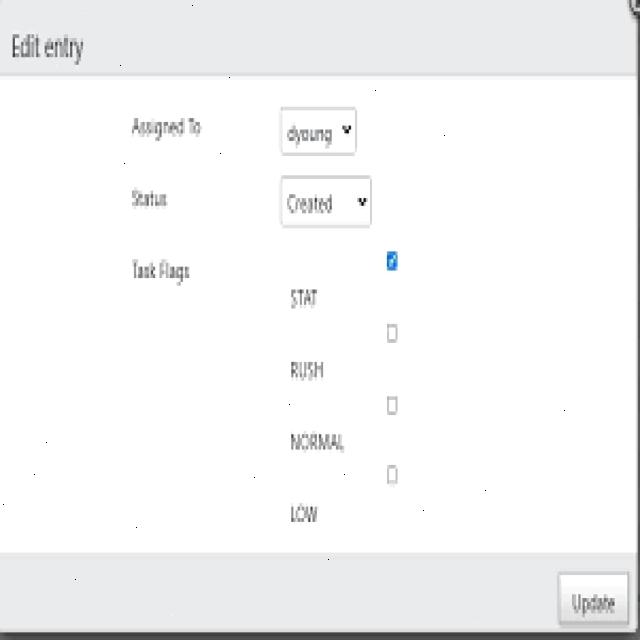button: (558, 574, 629, 624)
checkbox: (386, 249, 399, 270), (388, 394, 398, 417), (388, 464, 398, 485), (387, 322, 397, 342)
dropdownMenu: (281, 176, 370, 226), (280, 108, 359, 156)
label: (119, 108, 214, 151), (123, 249, 204, 289), (281, 423, 353, 462), (122, 172, 176, 220), (284, 495, 342, 535), (284, 353, 334, 386), (278, 280, 326, 314)
